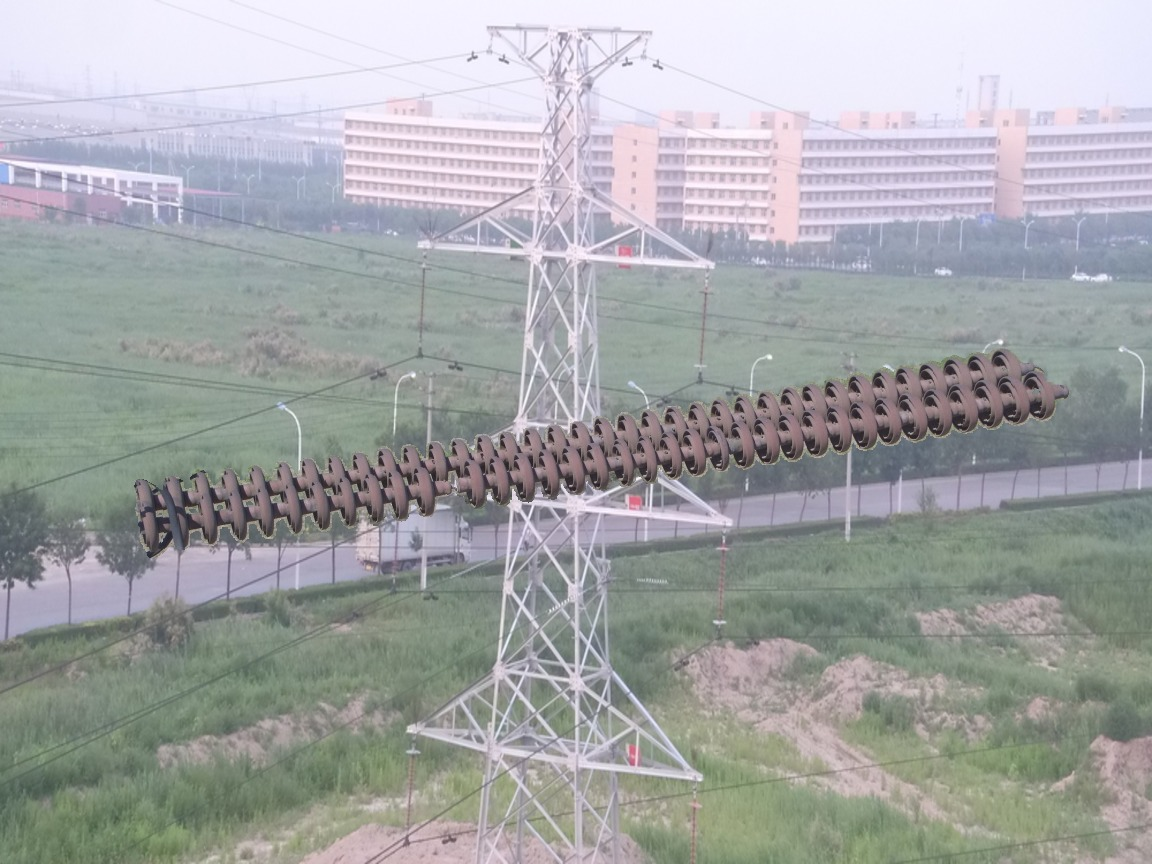defect: (407, 458, 490, 519)
